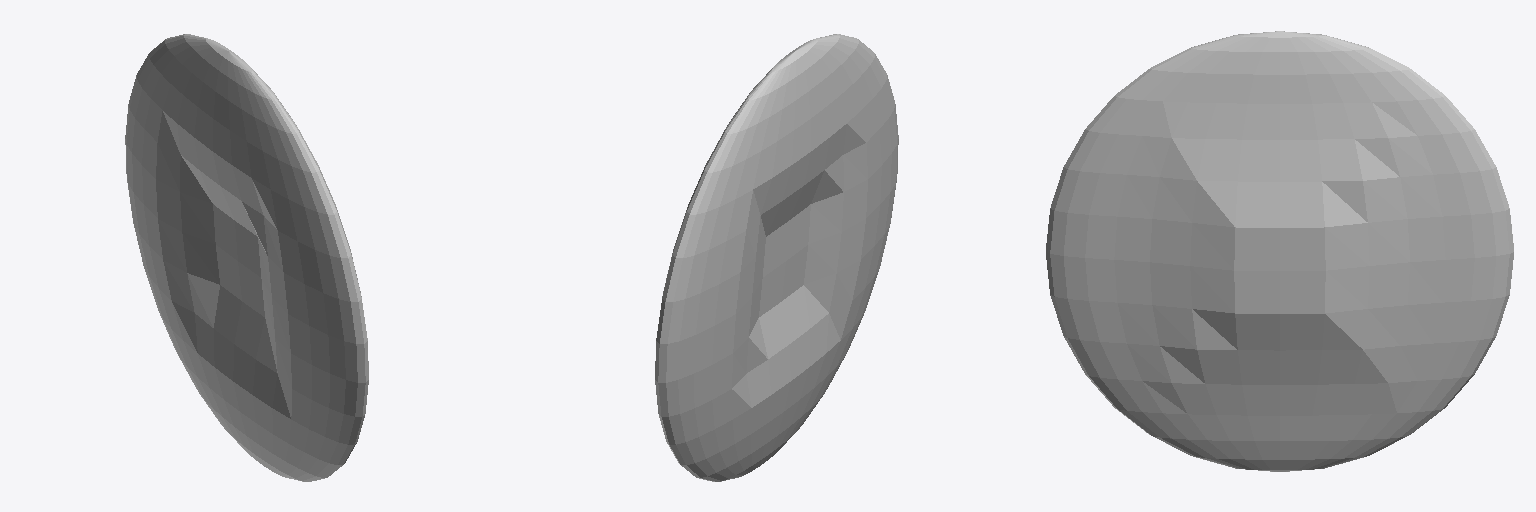
The model's file is shield_000007.obj.
3 renders of one model, left to right at view 1: azimuth 30°, elevation 25°; view 2: azimuth 150°, elevation 25°; view 3: azimuth 270°, elevation 25°, orthographic.
Size of the model in its own units: 0.4276 by 1.99 by 2.